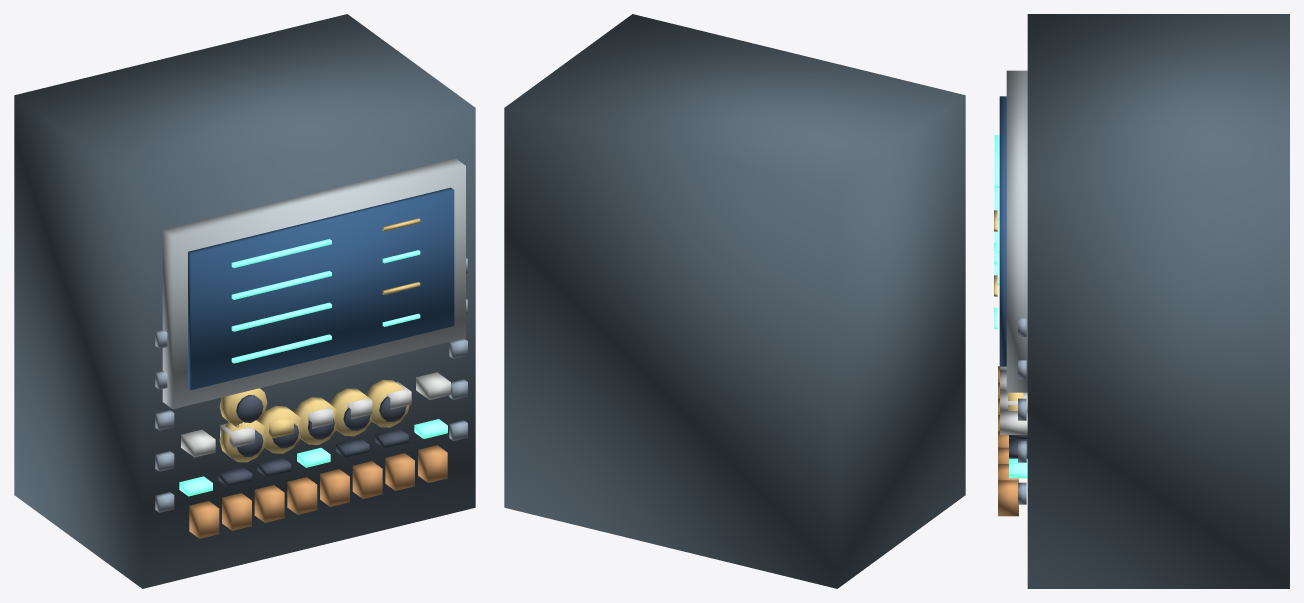
Rendered from 22_L84_ReactionWheelMotorDriverRack.glb.
3 renders of one model, left to right at view 1: azimuth 30°, elevation 25°; view 2: azimuth 150°, elevation 25°; view 3: azimuth 270°, elevation 25°, orthographic. The views are drawn at different scales.
Visible parts, largest first — view 1: L84_ReactionWheelMotorDriverR_Part_0000, L84_ReactionWheelMotorDriverR_Part_0002, L84_ReactionWheelMotorDriverR_Part_0001, L84_ReactionWheelMotorDriverR_Part_0008, L84_ReactionWheelMotorDriverR_Part_0003, L84_ReactionWheelMotorDriverR_Part_0005, L84_ReactionWheelMotorDriverR_Part_0007, L84_ReactionWheelMotorDriverR_Part_0006, L84_ReactionWheelMotorDriverR_Part_0016, L84_ReactionWheelMotorDriverR_Part_0018, L84_ReactionWheelMotorDriverR_Part_0020, L84_ReactionWheelMotorDriverR_Part_0014 (+4 smaller); view 2: L84_ReactionWheelMotorDriverR_Part_0000; view 3: L84_ReactionWheelMotorDriverR_Part_0000, L84_ReactionWheelMotorDriverR_Part_0001, L84_ReactionWheelMotorDriverR_Part_0002, L84_ReactionWheelMotorDriverR_Part_0008, L84_ReactionWheelMotorDriverR_Part_0003, L84_ReactionWheelMotorDriverR_Part_0005, L84_ReactionWheelMotorDriverR_Part_0007.
Boxes of the visible parts, <box> form: L84_ReactionWheelMotorDriverR_Part_0000: <box>14,14,475,588</box>; L84_ReactionWheelMotorDriverR_Part_0002: <box>188,187,454,389</box>; L84_ReactionWheelMotorDriverR_Part_0001: <box>162,158,465,409</box>; L84_ReactionWheelMotorDriverR_Part_0008: <box>189,445,447,538</box>; L84_ReactionWheelMotorDriverR_Part_0003: <box>179,239,447,496</box>; L84_ReactionWheelMotorDriverR_Part_0005: <box>181,372,450,457</box>; L84_ReactionWheelMotorDriverR_Part_0007: <box>155,258,467,512</box>; L84_ReactionWheelMotorDriverR_Part_0006: <box>218,428,408,486</box>; L84_ReactionWheelMotorDriverR_Part_0016: <box>294,397,337,444</box>; L84_ReactionWheelMotorDriverR_Part_0018: <box>329,388,372,436</box>; L84_ReactionWheelMotorDriverR_Part_0020: <box>365,379,409,427</box>; L84_ReactionWheelMotorDriverR_Part_0014: <box>258,406,302,453</box>; L84_ReactionWheelMotorDriverR_Part_0000: <box>504,14,965,588</box>; L84_ReactionWheelMotorDriverR_Part_0000: <box>1027,14,1289,588</box>; L84_ReactionWheelMotorDriverR_Part_0001: <box>1006,70,1027,392</box>; L84_ReactionWheelMotorDriverR_Part_0002: <box>999,96,1006,366</box>; L84_ReactionWheelMotorDriverR_Part_0008: <box>998,366,1018,516</box>; L84_ReactionWheelMotorDriverR_Part_0003: <box>994,135,1027,478</box>; L84_ReactionWheelMotorDriverR_Part_0005: <box>1000,366,1027,434</box>; L84_ReactionWheelMotorDriverR_Part_0007: <box>1018,318,1026,504</box>.
Bounding box in the file's own units: 1.07 × 1.23 × 0.8059.
